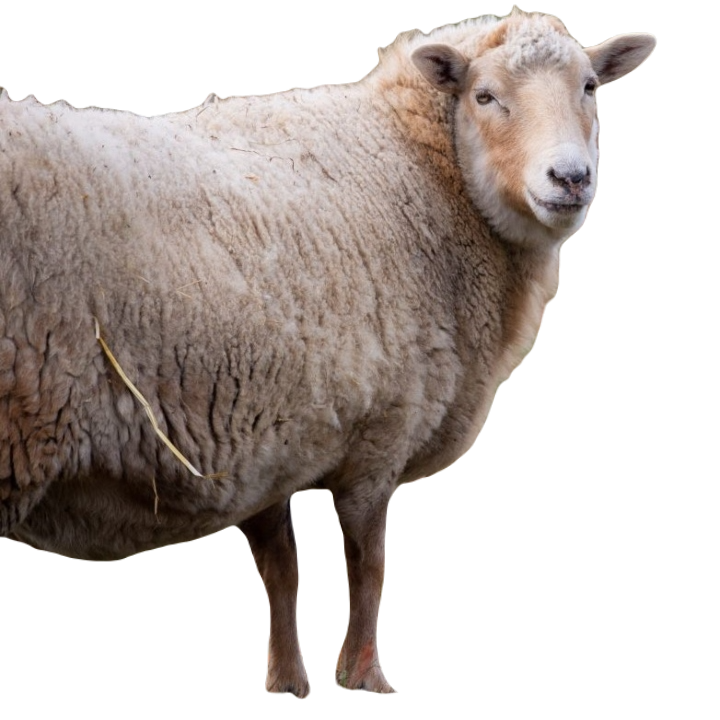Sheep: (0, 4, 661, 698)
